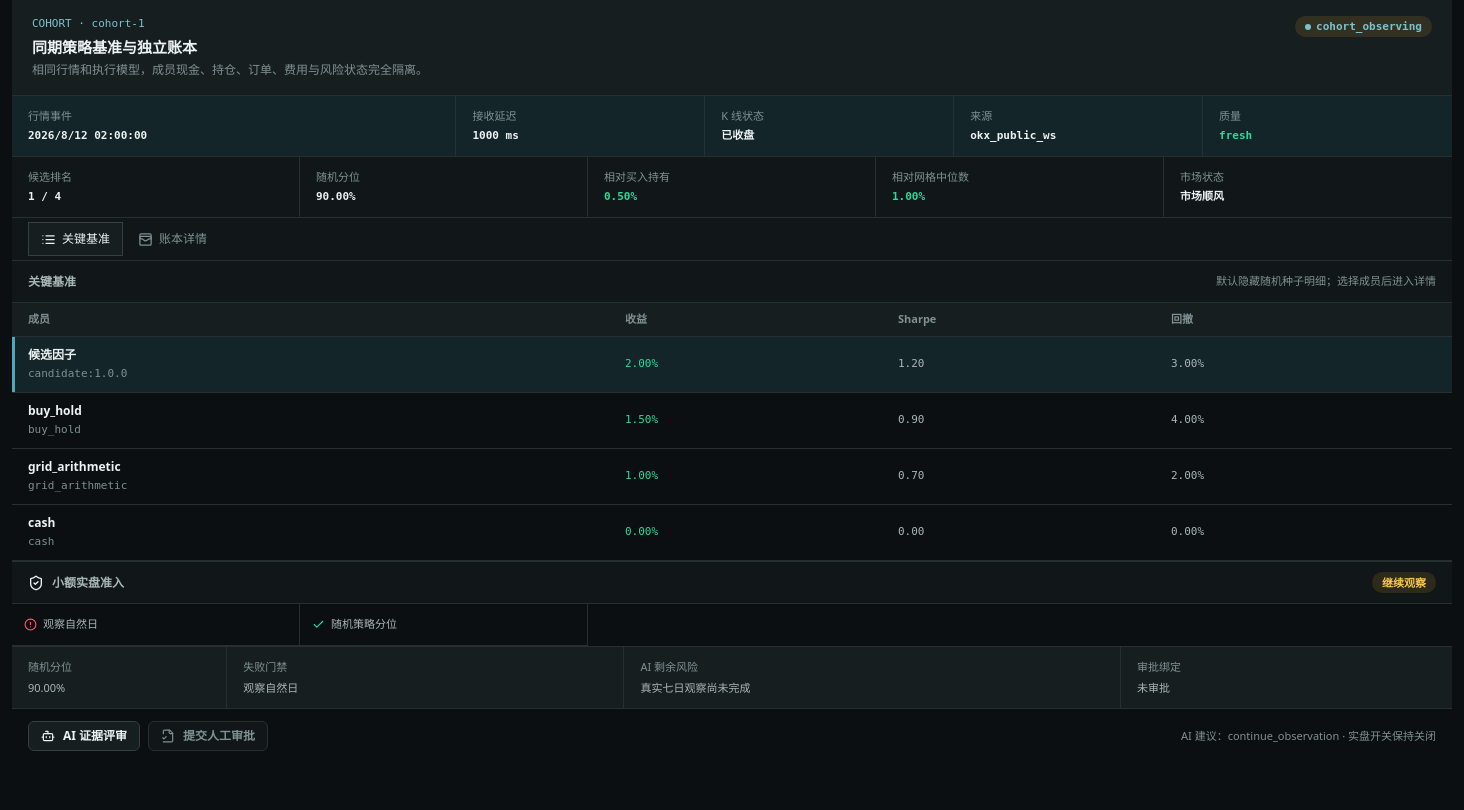
Scenario: FactorCohortPanel › switches from ranking to ledger evidence and keeps live submission disabled
This screenshot has width=1464, height=810.
Expected: the text "真实七日观察尚未完成" is shown, [640,680,750,694]
Expected: the text "观察自然日" is shown 2 times, [43,616,98,633]; [243,680,298,694]
Click the button "grid_arithmetic grid_arithmetic 1.00% 0.70 2.00%" at (74, 467), box [12,449,1452,505]
(page scrolled)
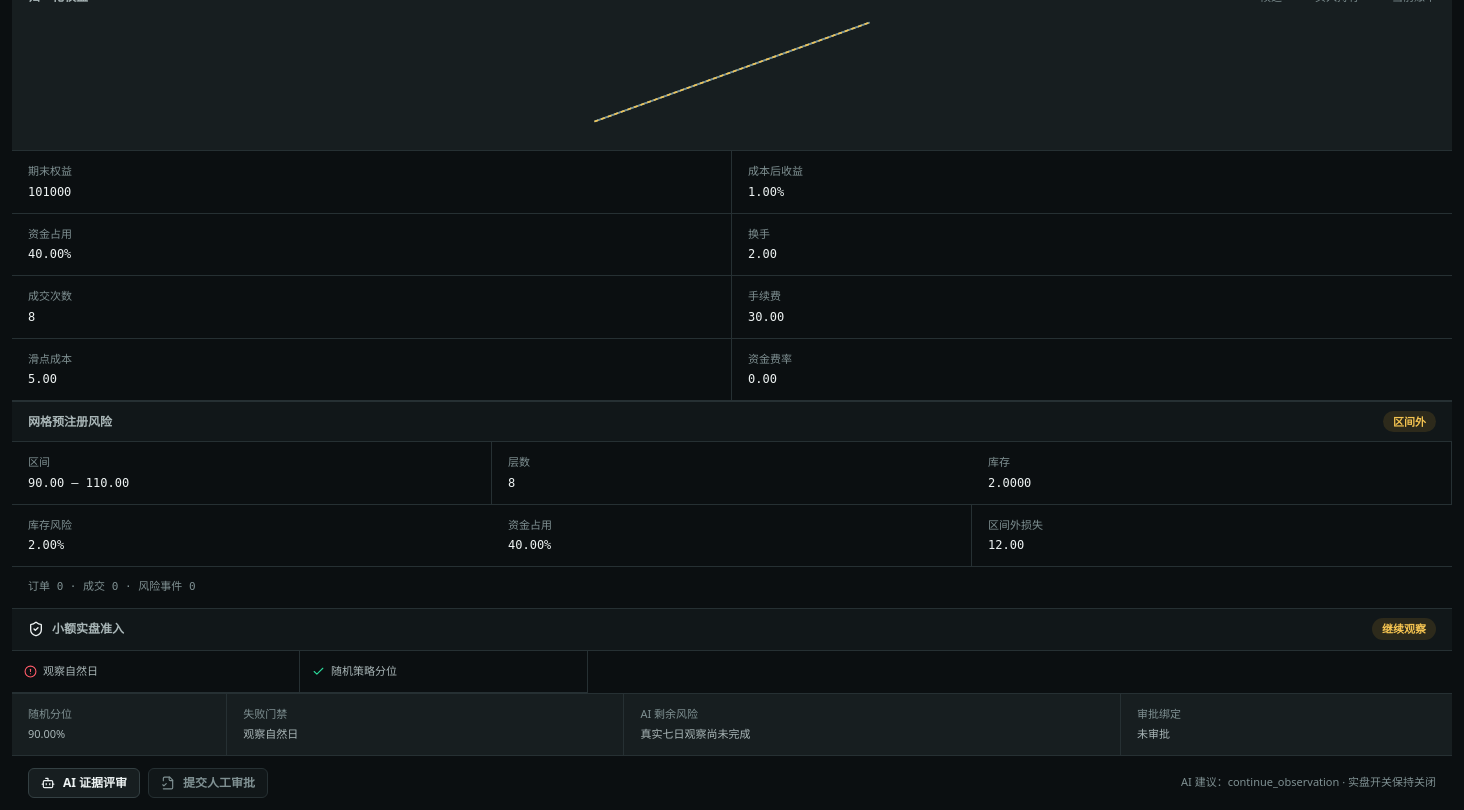
Expected: the picture named "候选、买入持有与当前账本权益曲线" is shown, [28,6,1436,138]
Expected: the text "网格预注册风险" is shown, [28,412,112,430]
Expected: the text "区间外" is shown, [1383,411,1436,432]
